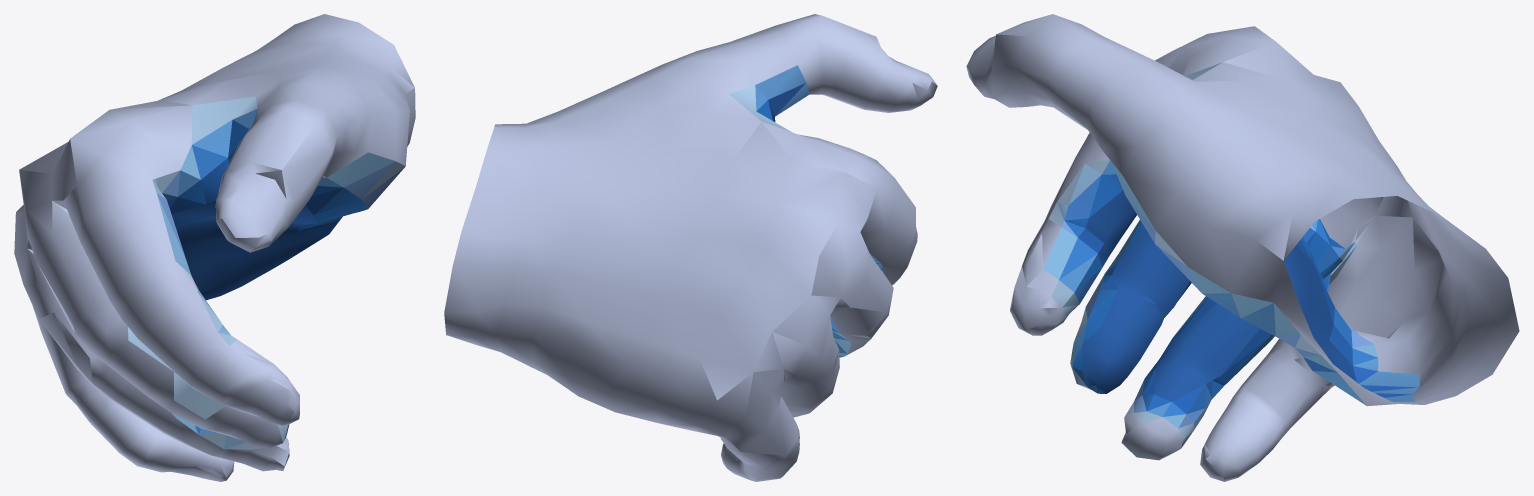
File: mocap_power.glb
3 views of the same model, side by side, from view 1: azimuth 30°, elevation 25°; view 2: azimuth 150°, elevation 25°; view 3: azimuth 270°, elevation 25° (orthographic). The views are drawn at different scales.
Parts seen in each view (by area): view 1: mesh0; view 2: mesh0; view 3: mesh0.
Boxes of the visible parts, x1,y1,x2,y2 form: mesh0: (14, 14, 415, 481); mesh0: (444, 14, 937, 481); mesh0: (966, 14, 1519, 481).
Bounding box in the file's own units: 0.1119 × 0.1176 × 0.1285.
